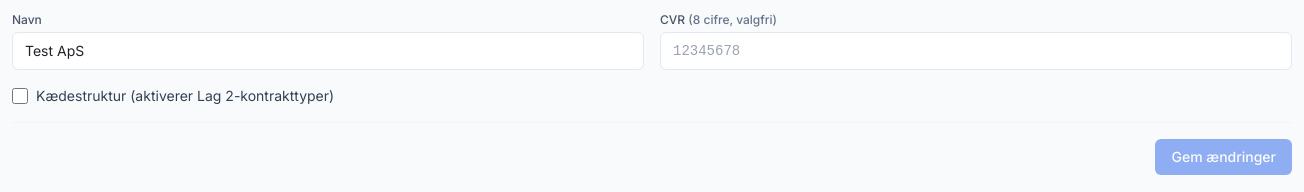
Test case: OrganizationForm › filterer ikke-cifre væk fra CVR-input
The width and height of the screenshot is (1304, 192).
In the field with placeholder "12345678": (976, 51) [660,32,1292,70], type "12-34 5678abc"
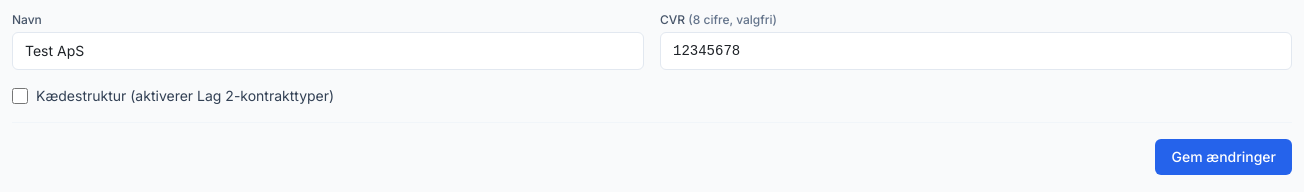
Check: the field with placeholder "12345678" holds "12345678", box [660,32,1292,70]
